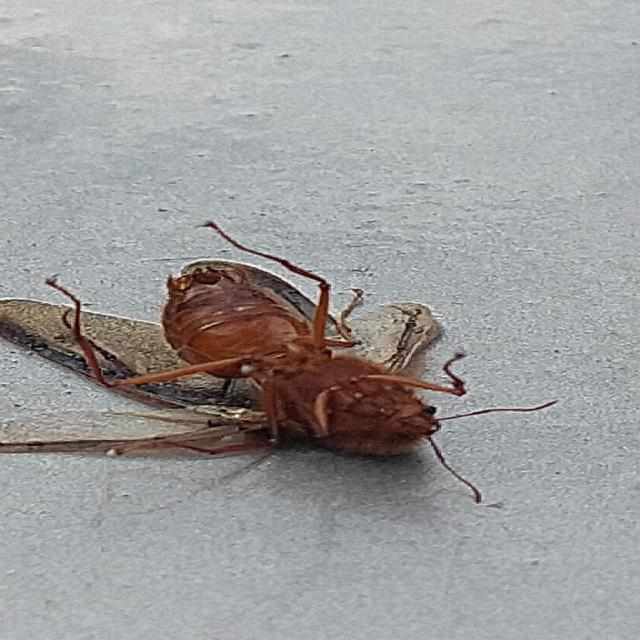Dead-Male-Alate: (0, 221, 560, 504)
